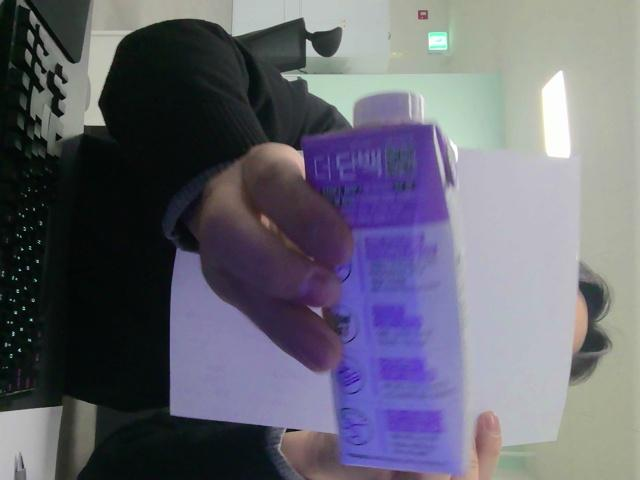milk: (303, 92, 473, 474)
